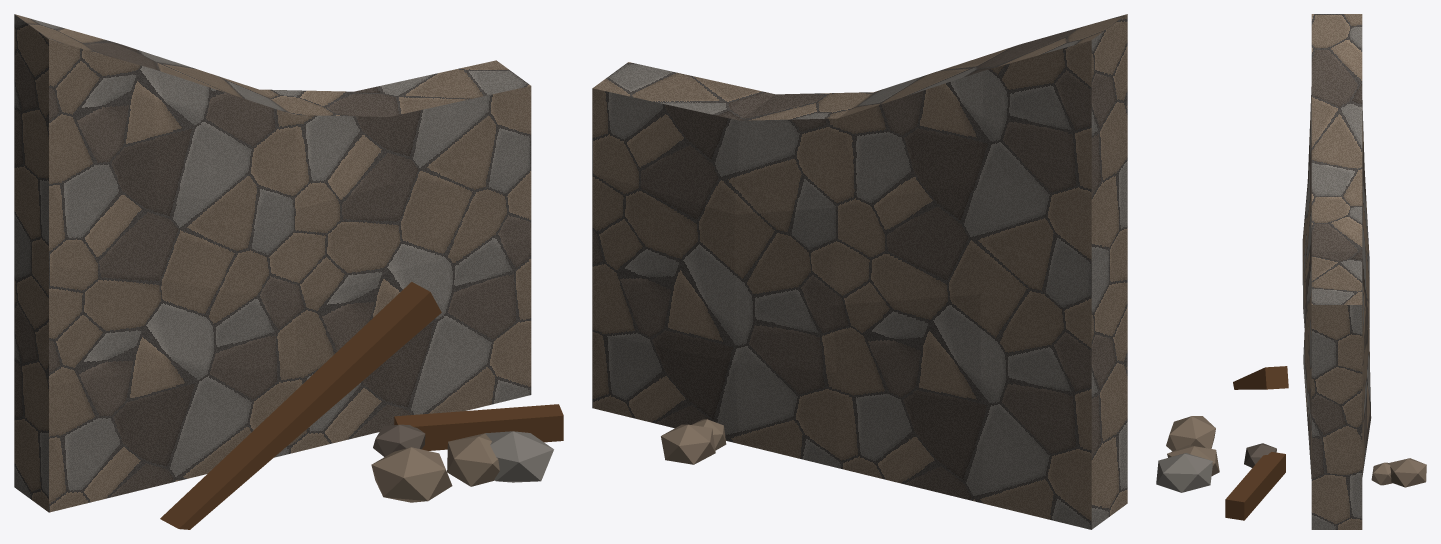
Rendered from mine_wall_collapsed.glb.
3 renders of one model, left to right at view 1: azimuth 30°, elevation 25°; view 2: azimuth 150°, elevation 25°; view 3: azimuth 270°, elevation 25°, orthographic. The views are drawn at different scales.
Visible parts, largest first — view 1: mine_wall_collapsed; view 2: mine_wall_collapsed; view 3: mine_wall_collapsed.
Boxes of the visible parts, x1,y1,x2,y2 form: mine_wall_collapsed: [14, 14, 563, 529]; mine_wall_collapsed: [592, 14, 1127, 529]; mine_wall_collapsed: [1156, 14, 1426, 529].
Size of what is drawn, in the model's own units: 4 by 3.75 by 2.67.
5 materials, 1 textured.
